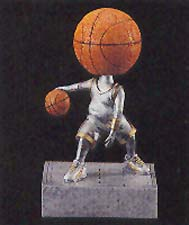basketball: (72, 7, 141, 75), (45, 89, 70, 116)
